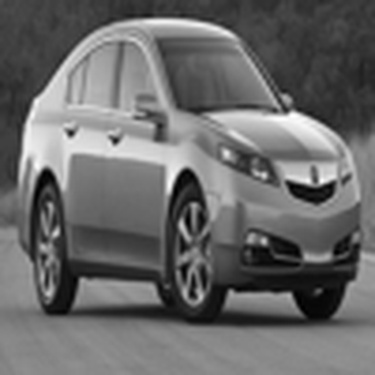car: (5, 3, 361, 330)
